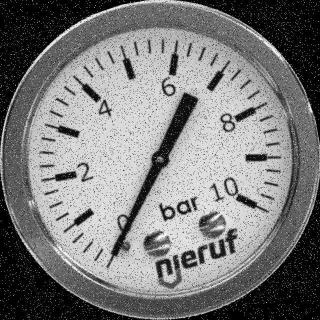gauge: (0, 0, 320, 320), (91, 222, 141, 274), (218, 176, 262, 218), (148, 146, 174, 172), (112, 222, 132, 242)
